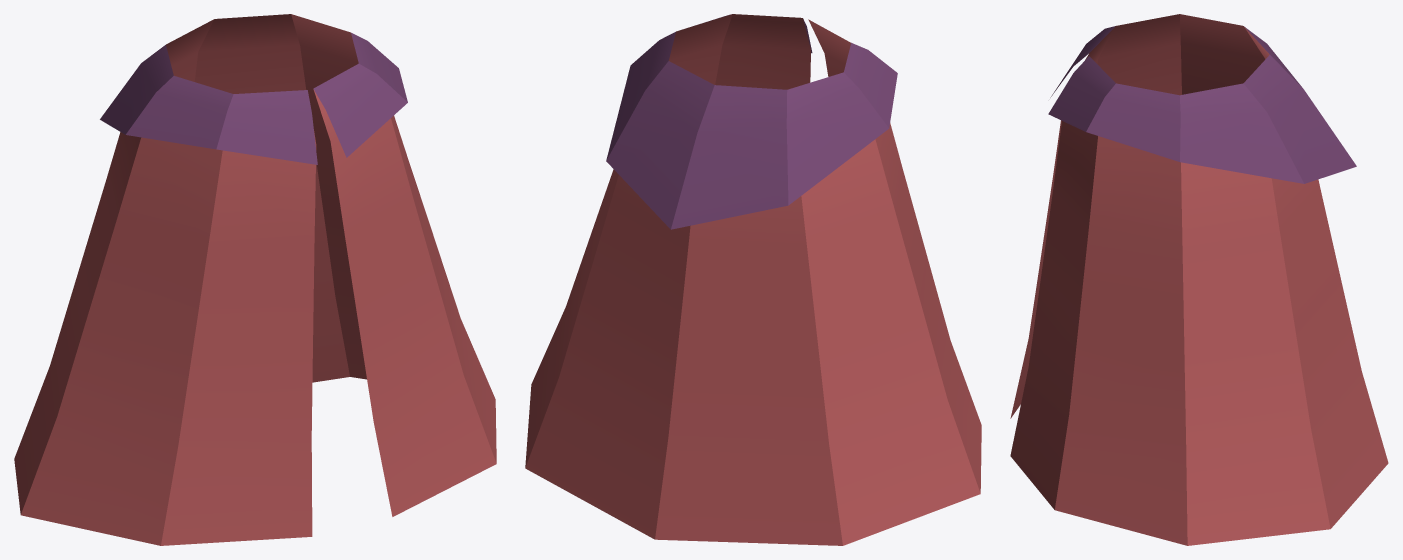
Rendered from Cape.fbx.
The picture shows the model from 3 angles, left to right: view 1: azimuth 30°, elevation 25°; view 2: azimuth 150°, elevation 25°; view 3: azimuth 270°, elevation 25°; orthographic projection. The views are drawn at different scales.
Visible parts, largest first — view 1: Cape; view 2: Cape; view 3: Cape.
Boxes of the visible parts, box(x1,y1,x2,y2) form: Cape: box(14, 14, 496, 545); Cape: box(525, 14, 981, 545); Cape: box(1010, 14, 1388, 545).
Bounding box in the file's own units: 3.68 × 3.22 × 2.7.
1 material, 1 textured.
